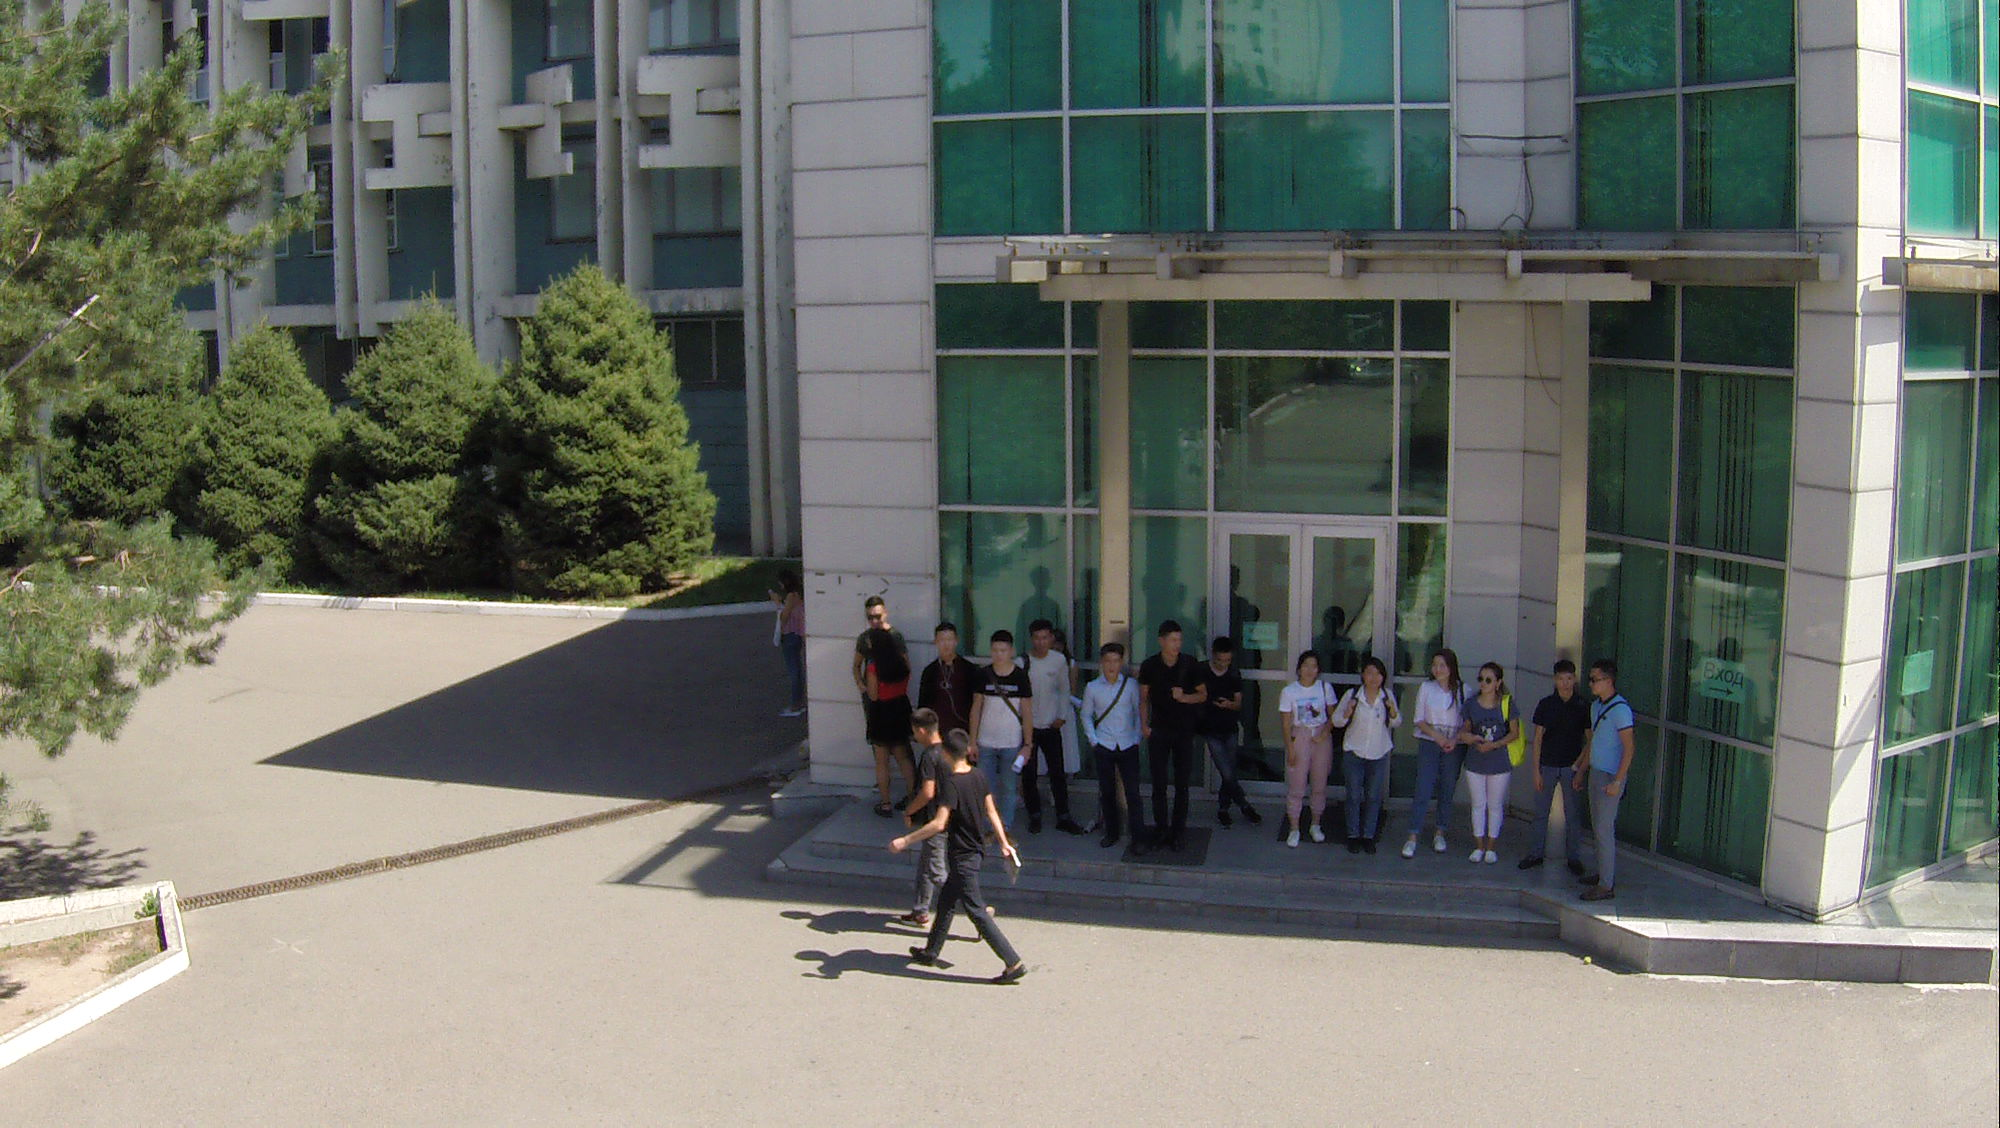person: (899, 729, 1031, 988), (1566, 656, 1643, 911), (1398, 647, 1472, 867), (1277, 639, 1346, 861), (1143, 619, 1202, 869), (898, 703, 962, 935), (1455, 662, 1523, 872), (854, 618, 927, 815), (1530, 652, 1589, 883), (1089, 644, 1153, 855), (1205, 626, 1267, 840), (1340, 645, 1402, 856), (970, 624, 1027, 827), (1014, 630, 1070, 833), (755, 559, 808, 720), (917, 613, 975, 722), (858, 590, 888, 629)
